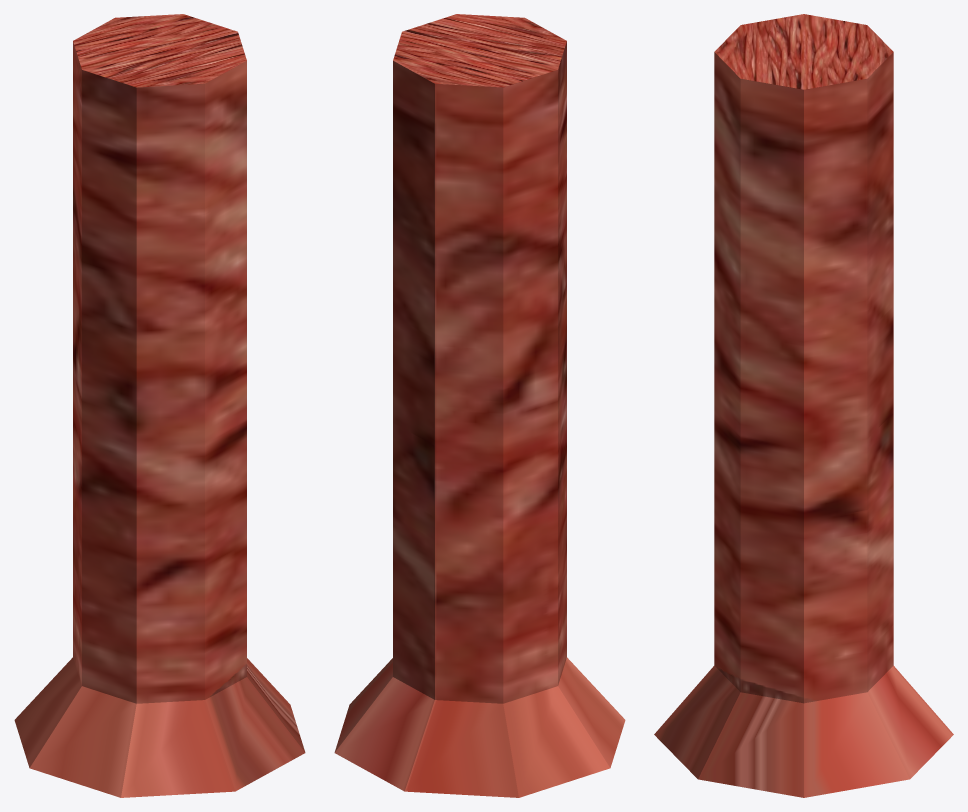
The model's file is pillar.glb.
3 views of the same model, side by side, from view 1: azimuth 30°, elevation 25°; view 2: azimuth 150°, elevation 25°; view 3: azimuth 270°, elevation 25° (orthographic).
Parts seen in each view (by area): view 1: Cylinder; view 2: Cylinder; view 3: Cylinder.
Part boxes in pixels (x1=…): Cylinder: x1=14, y1=14, x2=305, y2=797; Cylinder: x1=334, y1=14, x2=625, y2=797; Cylinder: x1=654, y1=14, x2=953, y2=797.
Size of the model in its own units: 3.35 by 8.4 by 3.35.
1 material, 1 textured.
